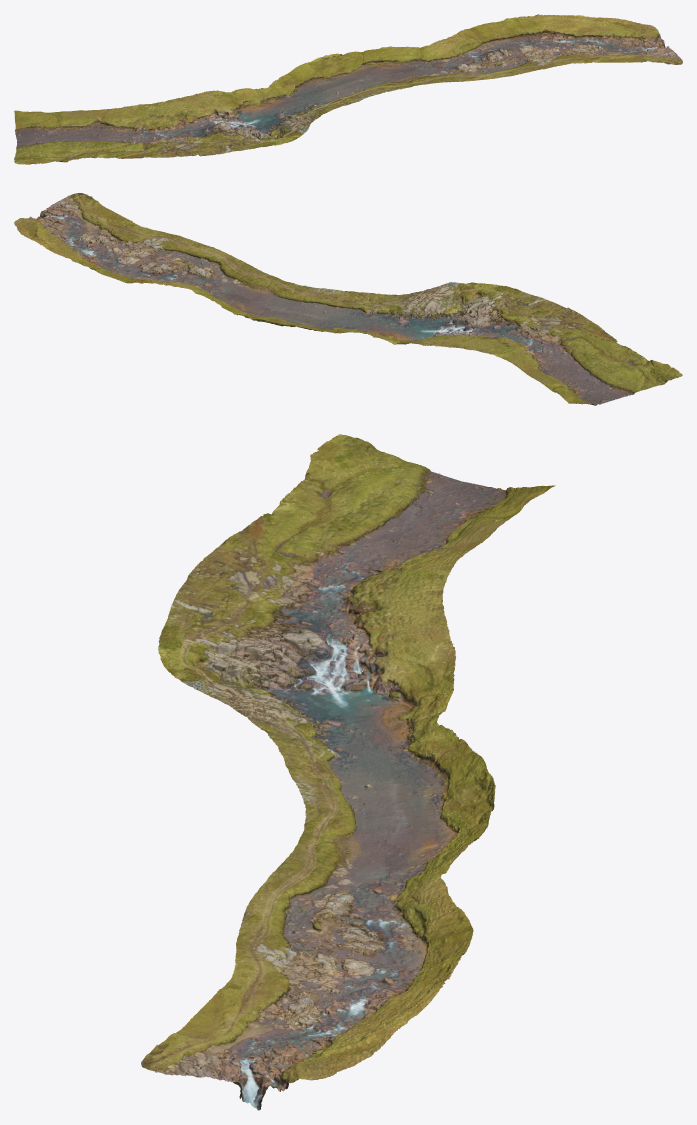
Rendered from river-1k.glb.
3 views of the same model, one above another, from view 1: azimuth 30°, elevation 25°; view 2: azimuth 150°, elevation 25°; view 3: azimuth 270°, elevation 25° (orthographic). The views are drawn at different scales.
Visible parts, largest first — view 1: river_3_01; view 2: river_3_01; view 3: river_3_01.
Part boxes in pixels (x1,y1,x2,y2): river_3_01: (14, 14, 682, 164); river_3_01: (14, 193, 682, 405); river_3_01: (141, 434, 555, 1110).
Bounding box in the file's own units: 221 × 11.05 × 62.78.
Materials: 1 (1 with a texture image).
